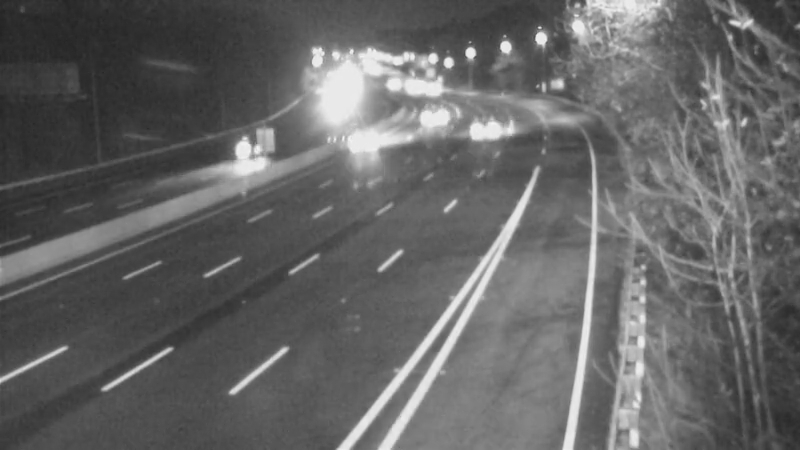vehicle: (408, 87, 458, 137), (447, 104, 497, 154), (338, 116, 388, 166), (222, 124, 272, 174)
